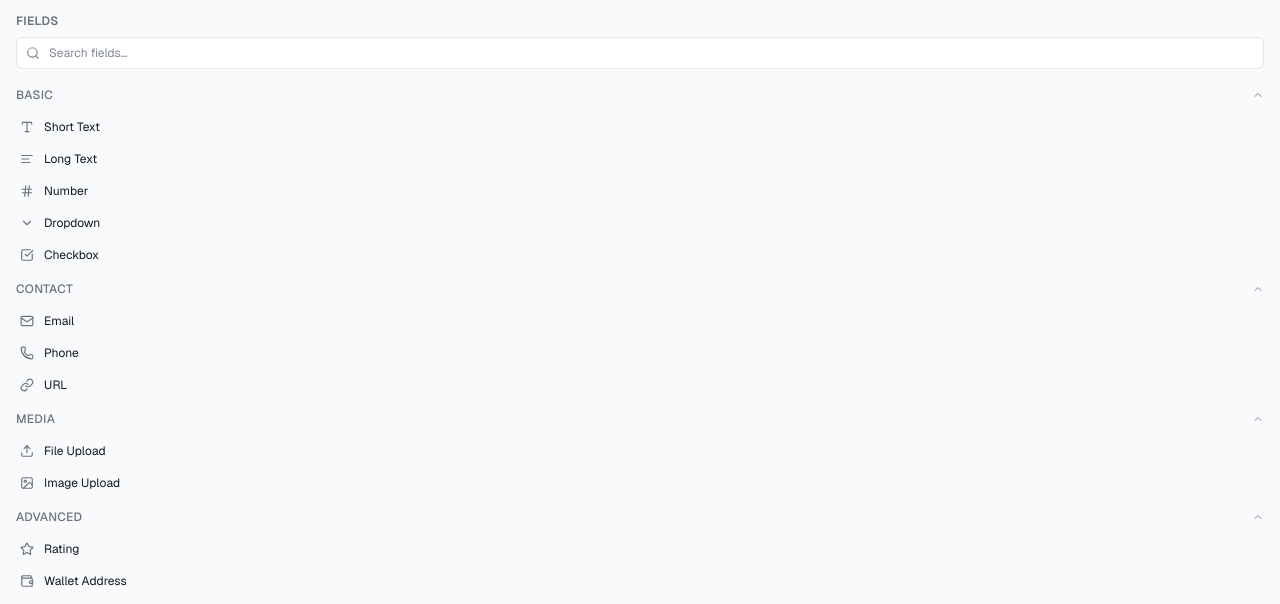
FieldPalette › search input filters results and shows empty state
Type "email" into the search field named "Search field types" at x=640, y=53, box [16,37,1264,69]
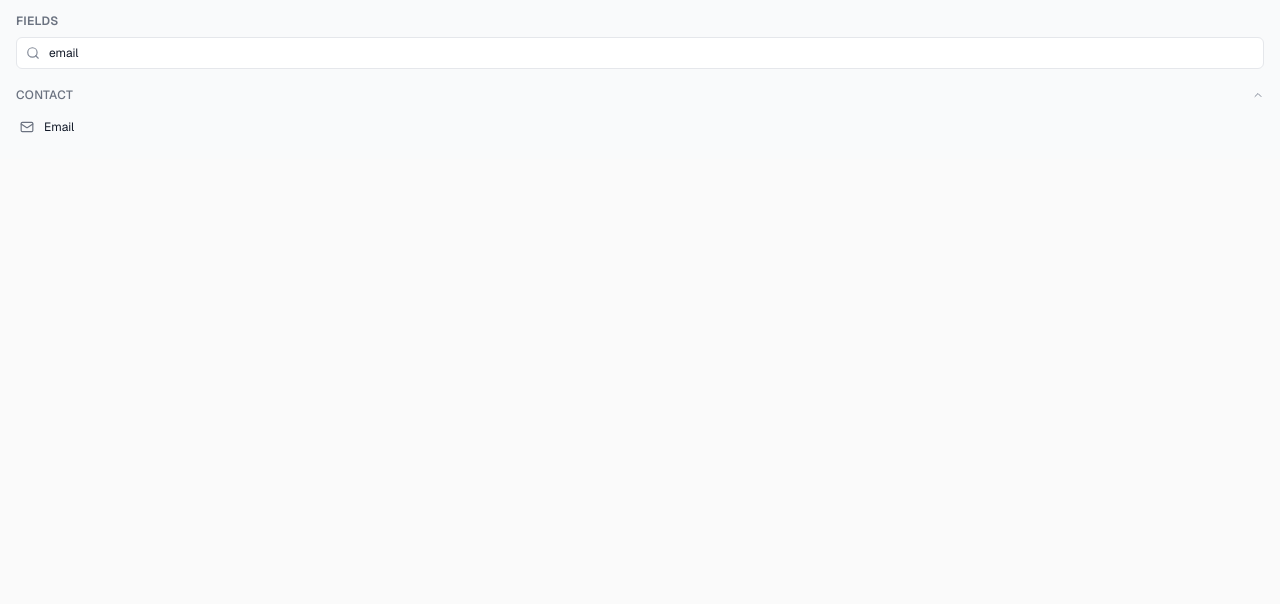
Expected: the text "No fields match" is not shown
Replace the text in the search field named "Search field types" with "zzznomatch" at x=640, y=53, box [16,37,1264,69]
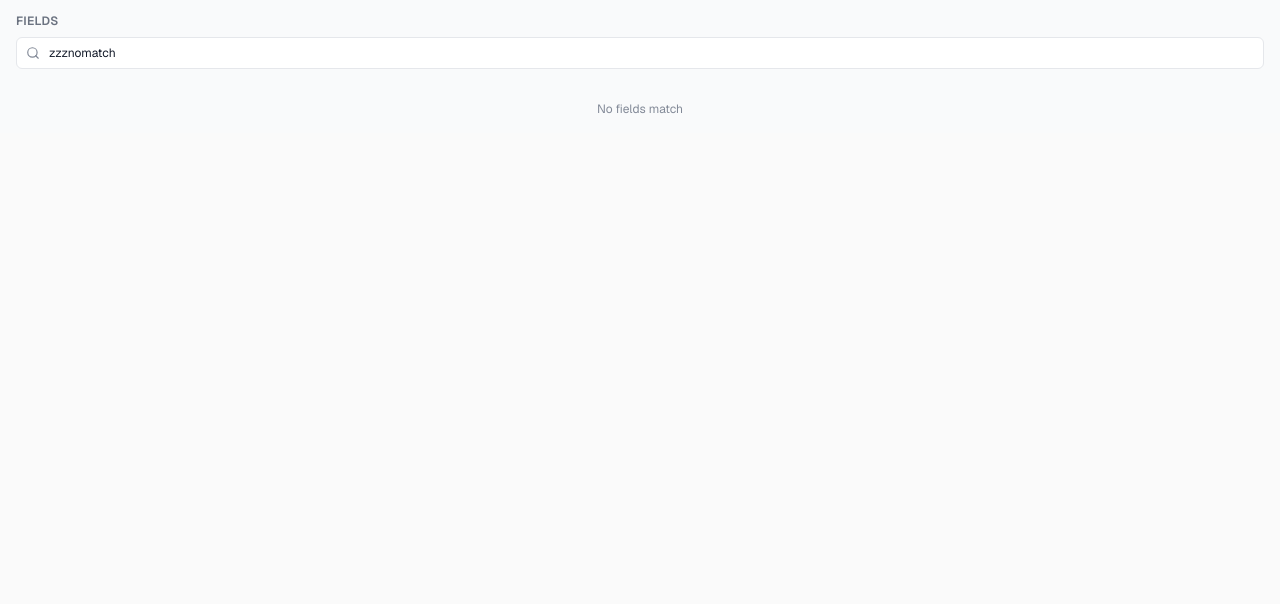
Expected: the text "No fields match" is shown, [597,101,683,117]
